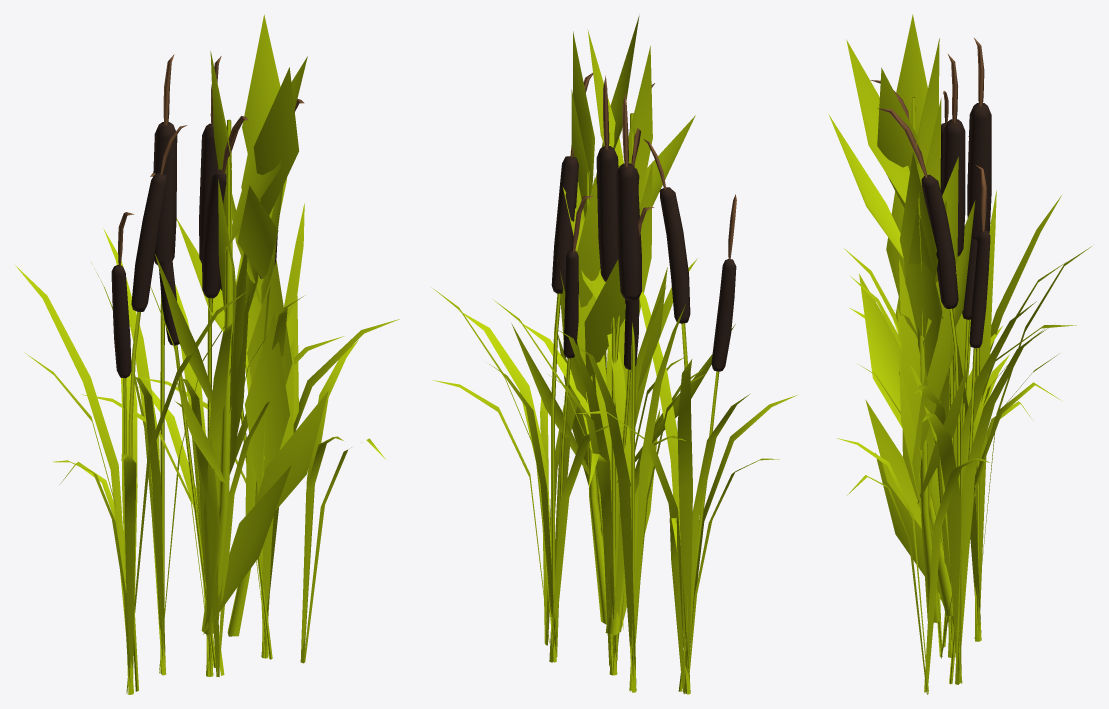
Rendered from g_reed.glb.
The picture shows the model from 3 angles, left to right: view 1: azimuth 30°, elevation 25°; view 2: azimuth 150°, elevation 25°; view 3: azimuth 270°, elevation 25°; orthographic projection. The views are drawn at different scales.
Parts seen in each view (by area): view 1: v0, v3, v4, v2, v1; view 2: v0, v4, v3, v1, v2; view 3: v0, v4, v3, v2, v1.
Part boxes in pixels (left/top/right/bottom): v0: left=15, top=54, right=399, bottom=694; v3: left=201, top=14, right=294, bottom=636; v4: left=155, top=56, right=328, bottom=634; v2: left=82, top=116, right=344, bottom=676; v1: left=150, top=56, right=304, bottom=676; v0: left=431, top=73, right=797, bottom=694; v4: left=511, top=14, right=735, bottom=629; v3: left=558, top=31, right=660, bottom=635; v1: left=558, top=75, right=683, bottom=675; v2: left=493, top=83, right=697, bottom=675; v0: left=836, top=38, right=1091, bottom=694; v4: left=828, top=39, right=975, bottom=601; v3: left=886, top=14, right=953, bottom=622; v2: left=844, top=80, right=1050, bottom=657; v1: left=895, top=54, right=1065, bottom=657.
Size of the model in its own units: 1.18 by 2.15 by 0.8087.
